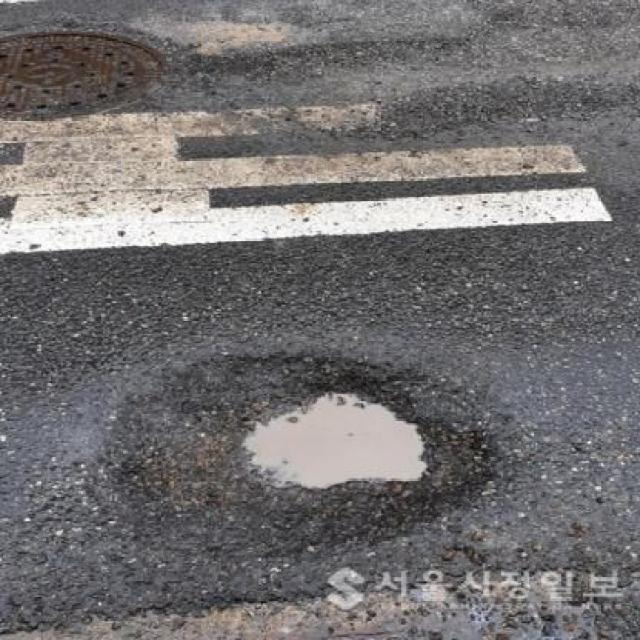Pothole: (236, 372, 441, 506), (0, 28, 174, 124)
